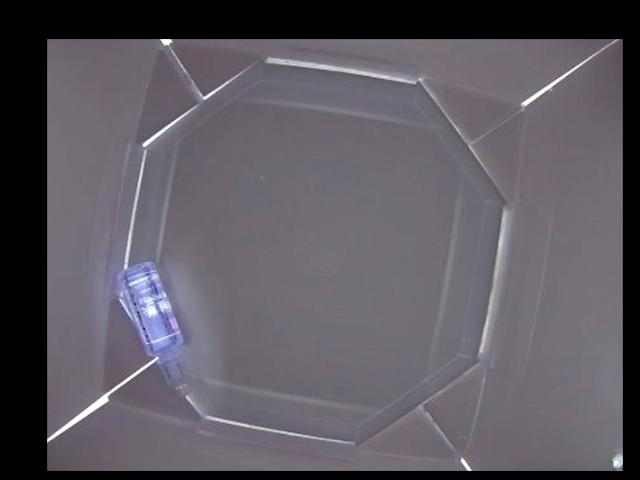Bottle: (116, 263, 195, 398)
